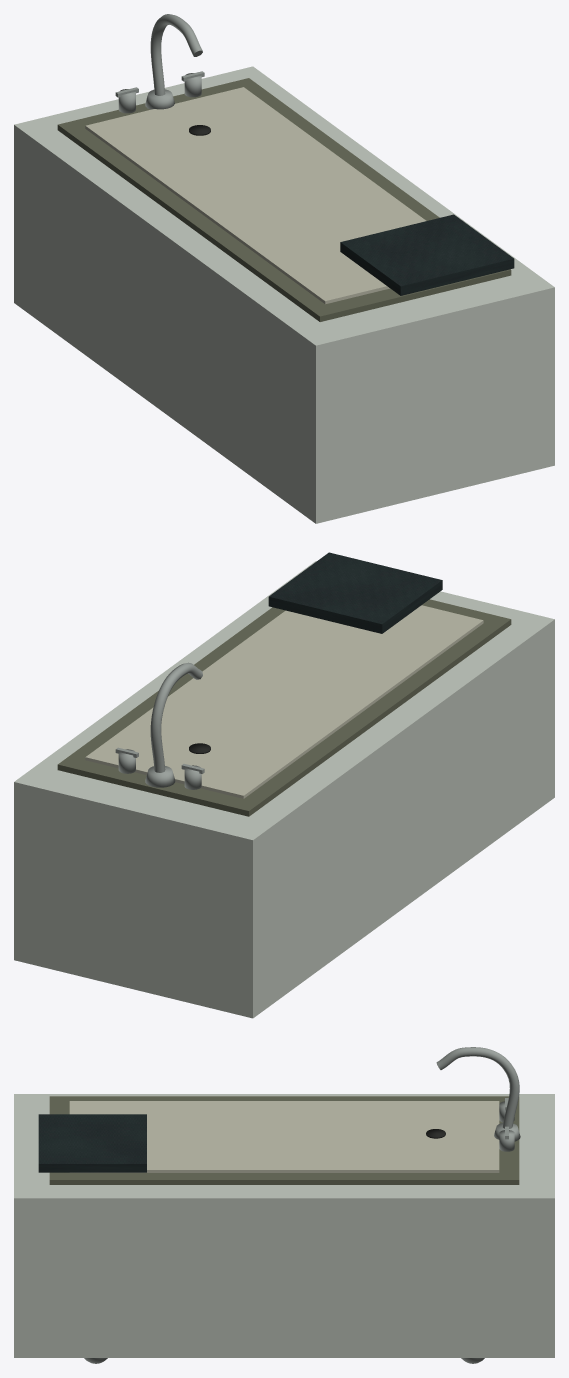
File: bathroom-tub.glb
3 renders of one model, top to bottom at view 1: azimuth 30°, elevation 25°; view 2: azimuth 150°, elevation 25°; view 3: azimuth 270°, elevation 25°, orthographic. The views are drawn at different scales.
Parts seen in each view (by area): view 1: Enamel bath body, Bath interior bottom, Bath interior recess, Folded bath towel, Chrome mixer swan neck; view 2: Enamel bath body, Bath interior bottom, Bath interior recess, Folded bath towel, Chrome mixer swan neck; view 3: Enamel bath body, Bath interior bottom, Bath interior recess, Folded bath towel, Chrome mixer swan neck.
Boxes of the visible parts, <box> form: Enamel bath body: <box>14,66,554,523</box>; Bath interior bottom: <box>85,87,426,304</box>; Bath interior recess: <box>57,78,511,321</box>; Folded bath towel: <box>340,214,514,295</box>; Chrome mixer swan neck: <box>150,14,202,95</box>; Enamel bath body: <box>14,561,554,1018</box>; Bath interior bottom: <box>85,605,483,798</box>; Bath interior recess: <box>57,599,511,816</box>; Folded bath towel: <box>268,552,442,633</box>; Chrome mixer swan neck: <box>150,662,202,772</box>; Enamel bath body: <box>14,1094,554,1357</box>; Bath interior bottom: <box>69,1101,499,1172</box>; Bath interior recess: <box>49,1096,519,1184</box>; Folded bath towel: <box>38,1114,146,1172</box>; Chrome mixer swan neck: <box>436,1047,519,1128</box>.
Size of the model in its own units: 0.8 by 0.9758 by 1.75.
6 materials, 1 textured.
